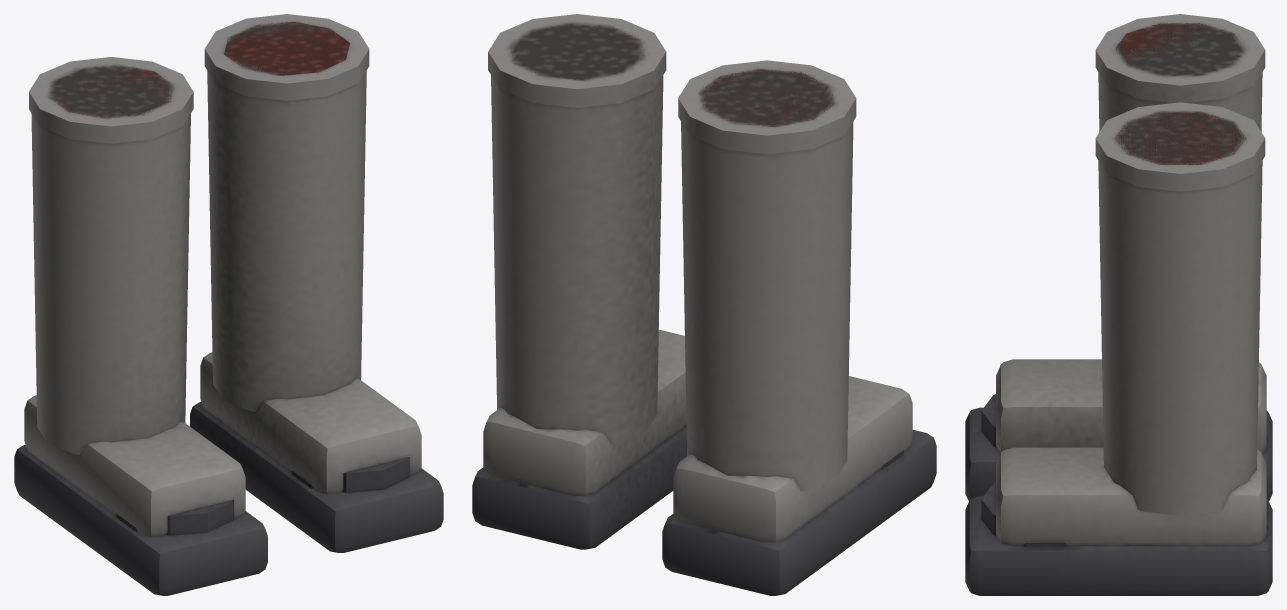
File: valenki.glb
The picture shows the model from 3 angles, left to right: view 1: azimuth 30°, elevation 25°; view 2: azimuth 150°, elevation 25°; view 3: azimuth 270°, elevation 25°; orthographic projection. The views are drawn at different scales.
Parts seen in each view (by area): view 1: valenki; view 2: valenki; view 3: valenki.
Part boxes in pixels (x1,y1,x2,y2): valenki: (14,14,443,595); valenki: (472,14,936,595); valenki: (965,14,1272,595).
Bounding box in the file's own units: 0.308 × 0.39 × 0.25.
Materials: 1 (1 with a texture image).
